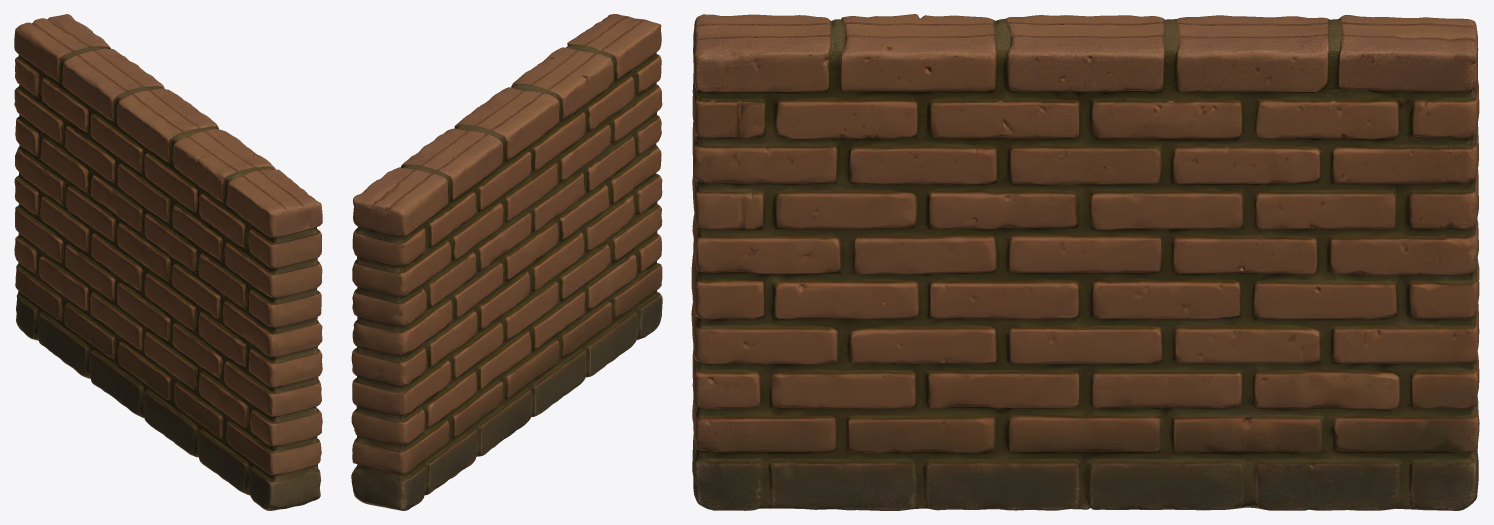
File: Brickwall.glb
3 views of the same model, side by side, from view 1: azimuth 30°, elevation 25°; view 2: azimuth 150°, elevation 25°; view 3: azimuth 270°, elevation 25° (orthographic). The views are drawn at different scales.
Parts seen in each view (by area): view 1: tripo_node_5e35e87d-c8b5-4b03-b1c8-eaa848be0f40; view 2: tripo_node_5e35e87d-c8b5-4b03-b1c8-eaa848be0f40; view 3: tripo_node_5e35e87d-c8b5-4b03-b1c8-eaa848be0f40.
Boxes of the visible parts, x1,y1,x2,y2 form: tripo_node_5e35e87d-c8b5-4b03-b1c8-eaa848be0f40: [14, 14, 322, 510]; tripo_node_5e35e87d-c8b5-4b03-b1c8-eaa848be0f40: [351, 14, 662, 510]; tripo_node_5e35e87d-c8b5-4b03-b1c8-eaa848be0f40: [691, 14, 1479, 510].
Bounding box in the file's own units: 0.1243 × 0.6531 × 1.
1 material, 1 textured.
